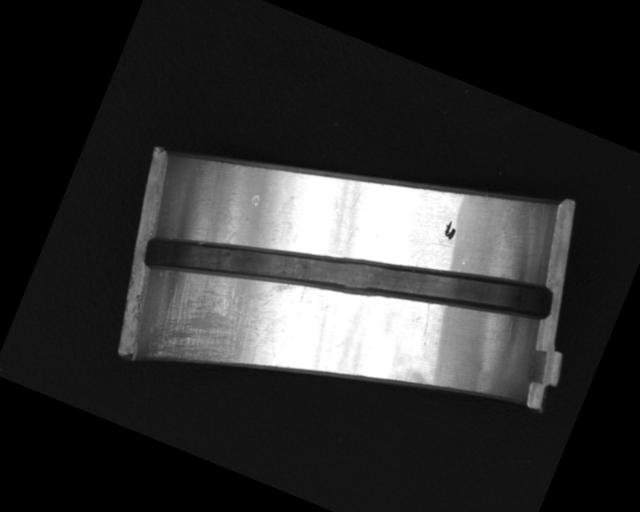blot: (440, 217, 461, 242)
bruise: (249, 193, 263, 208)
gap: (141, 142, 558, 410)
nick: (414, 301, 443, 347)
scratch: (140, 241, 297, 399)
